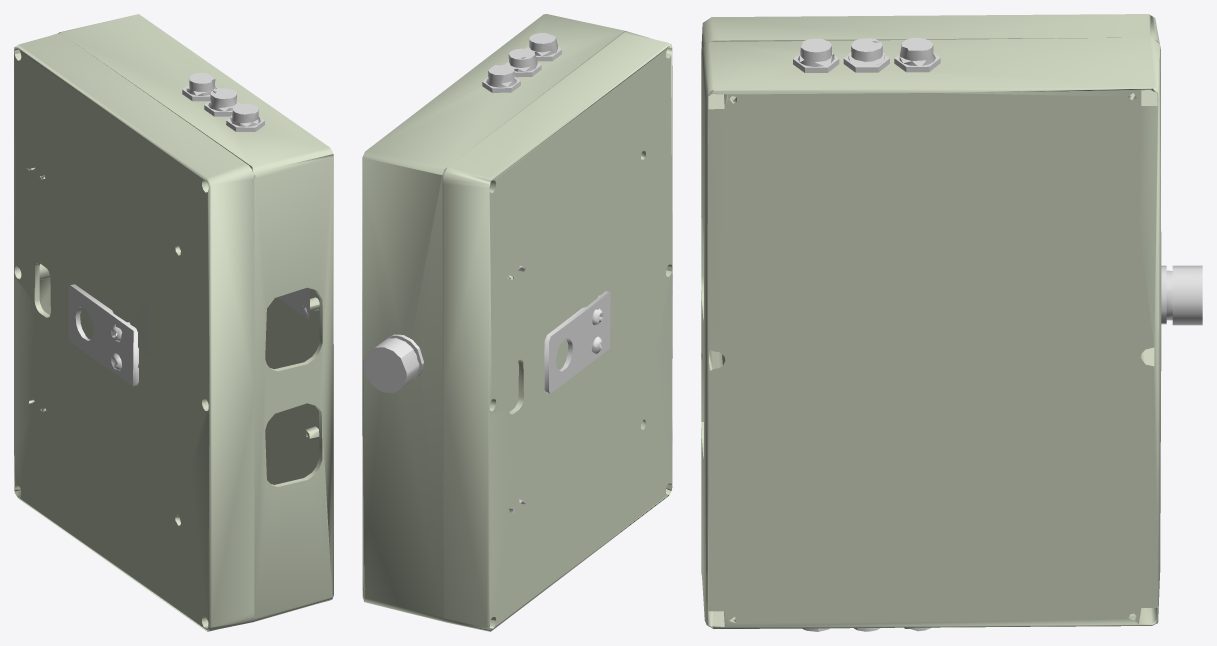
Rendered from electronics.dae.
The picture shows the model from 3 angles, left to right: view 1: azimuth 30°, elevation 25°; view 2: azimuth 150°, elevation 25°; view 3: azimuth 270°, elevation 25°; orthographic projection. The views are drawn at different scales.
Parts seen in each view (by area): view 1: tmp_export_electronics; view 2: tmp_export_electronics; view 3: tmp_export_electronics.
Part boxes in pixels (x1,y1,x2,y2): tmp_export_electronics: [14, 14, 333, 631]; tmp_export_electronics: [362, 14, 672, 631]; tmp_export_electronics: [701, 14, 1202, 631].
Bounding box in the file's own units: 0.0951 × 0.2512 × 0.321.
